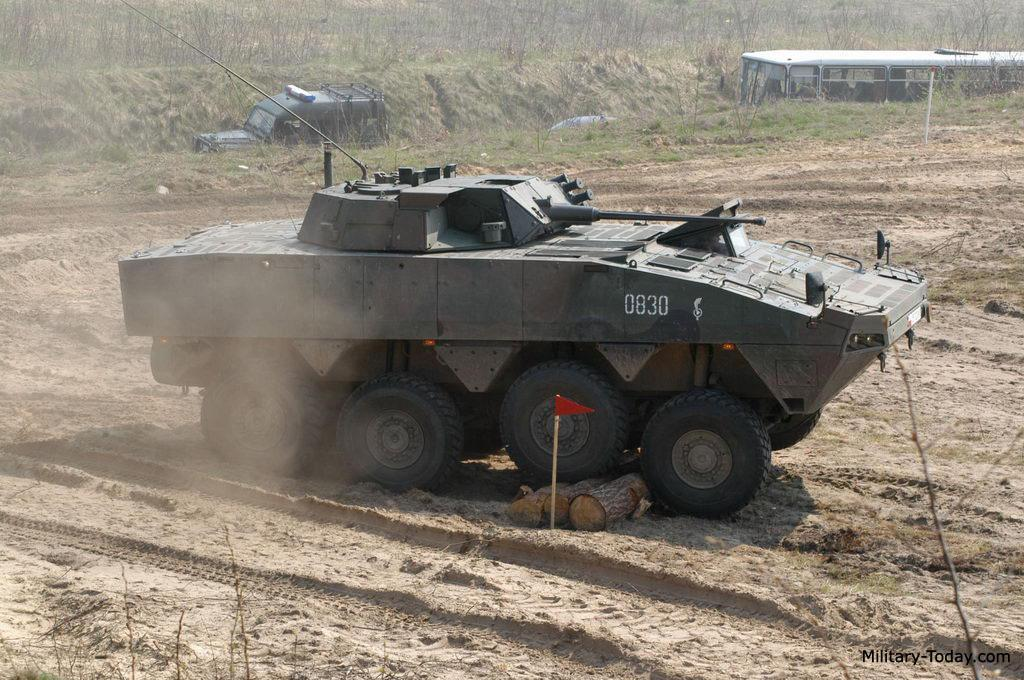armored_car: (189, 79, 389, 156)
tank: (116, 163, 929, 520)
